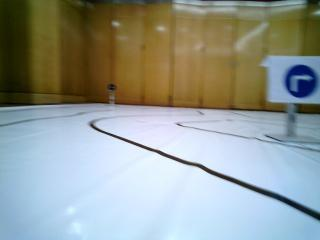right: (273, 57, 320, 101)
